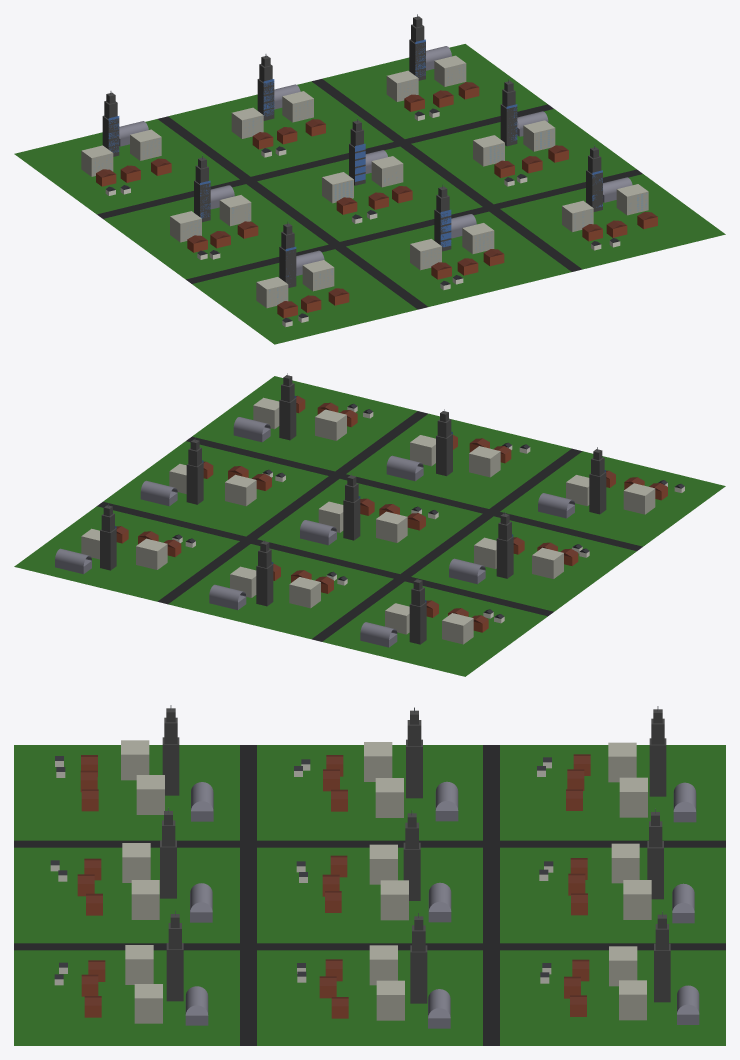
The model's file is city_district.obj.
The picture shows the model from 3 angles, top to bottom: view 1: azimuth 30°, elevation 25°; view 2: azimuth 150°, elevation 25°; view 3: azimuth 270°, elevation 25°; orthographic projection. The views are drawn at different scales.
Parts seen in each view (by area): view 1: Block_2_0, Block_2_1, Block_2_2, Block_0_2, Block_1_0, Block_0_0, Block_1_1, Block_0_1, Block_1_2, DistrictRoads; view 2: Block_0_1, Block_1_1, Block_2_0, Block_2_1, Block_1_0, Block_0_0, Block_2_2, Block_1_2, Block_0_2, DistrictRoads; view 3: Block_2_2, Block_1_2, Block_0_2, Block_2_1, Block_1_1, Block_0_1, Block_2_0, Block_1_0, Block_0_0, DistrictRoads.
Part boxes in pixels (x1,y1,x2,y2): Block_2_0: [192, 222, 417, 344]; Block_2_1: [346, 185, 571, 306]; Block_2_2: [500, 145, 725, 269]; Block_0_2: [322, 14, 547, 138]; Block_1_0: [103, 155, 328, 279]; Block_0_0: [14, 91, 239, 214]; Block_1_1: [257, 118, 482, 241]; Block_0_1: [168, 54, 393, 176]; Block_1_2: [411, 79, 636, 204]; DistrictRoads: [97, 79, 642, 309]; Block_0_1: [168, 539, 393, 639]; Block_1_1: [257, 473, 482, 573]; Block_2_0: [500, 447, 725, 546]; Block_2_1: [346, 409, 571, 508]; Block_1_0: [411, 512, 636, 611]; Block_0_0: [322, 577, 547, 676]; Block_2_2: [192, 373, 417, 471]; Block_1_2: [103, 437, 328, 536]; Block_0_2: [14, 503, 239, 601]; DistrictRoads: [97, 411, 642, 641]; Block_2_2: [14, 910, 239, 1045]; Block_1_2: [257, 913, 482, 1045]; Block_0_2: [500, 911, 725, 1045]; Block_2_1: [14, 807, 239, 943]; Block_1_1: [257, 810, 482, 943]; Block_0_1: [500, 808, 725, 943]; Block_2_0: [14, 705, 239, 840]; Block_1_0: [257, 707, 482, 840]; Block_0_0: [500, 706, 725, 840]; DistrictRoads: [14, 745, 725, 1045].
Size of the model in its own units: 630 by 85.03 by 630.
